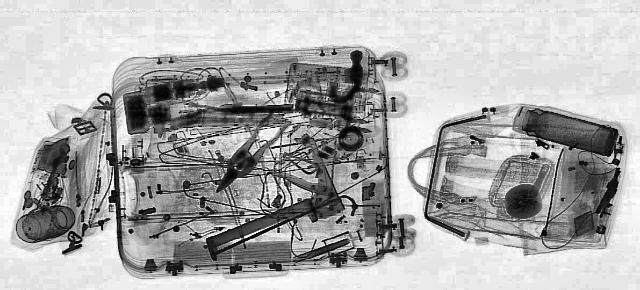Pliers: (198, 111, 298, 194)
